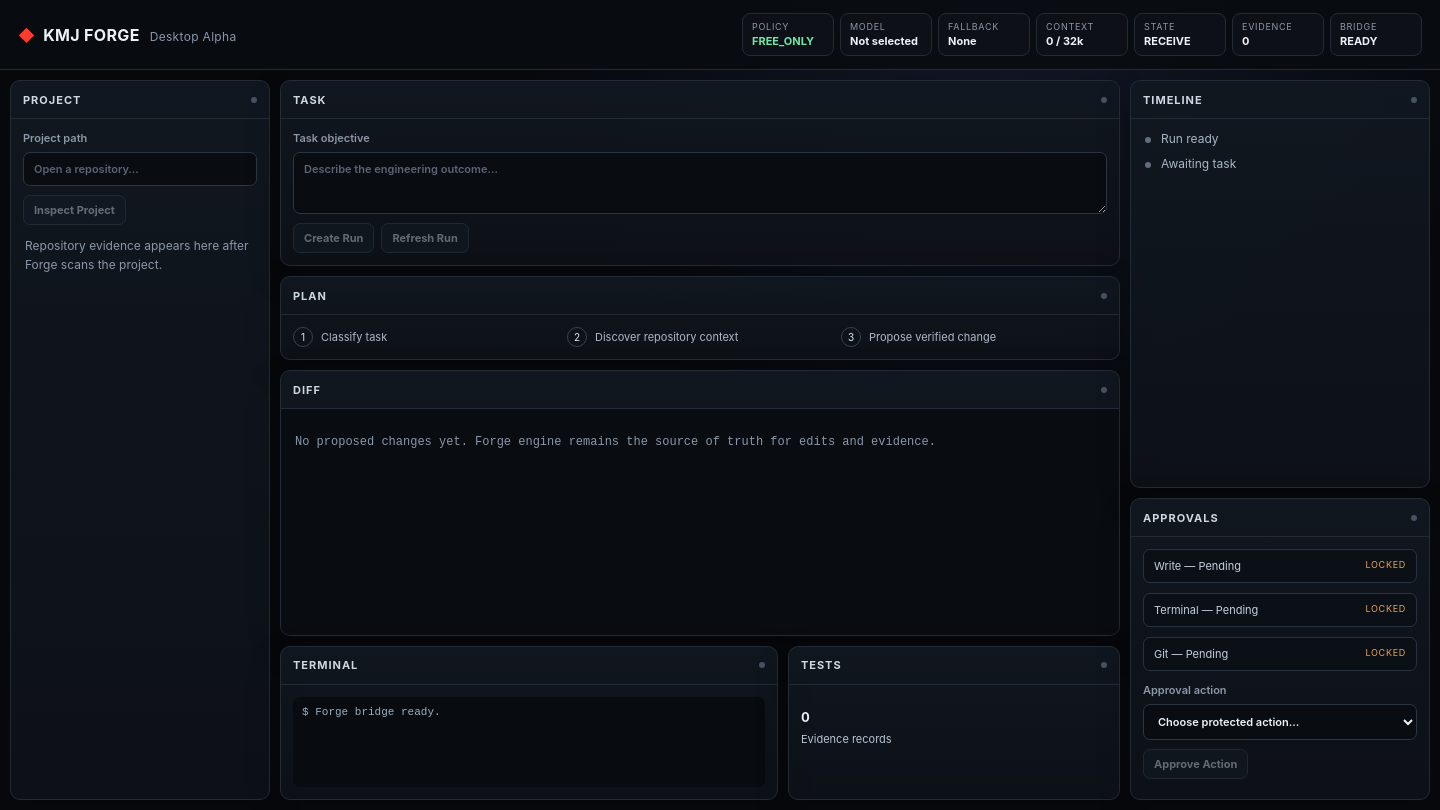
Scenario: Forge Desktop Alpha workspace › creates and refreshes a persisted Forge run through the bridge
Type "/repo" into the field labelled "Project path".
click(140, 169); type("/repo")  # box 23,152 -> 257,186
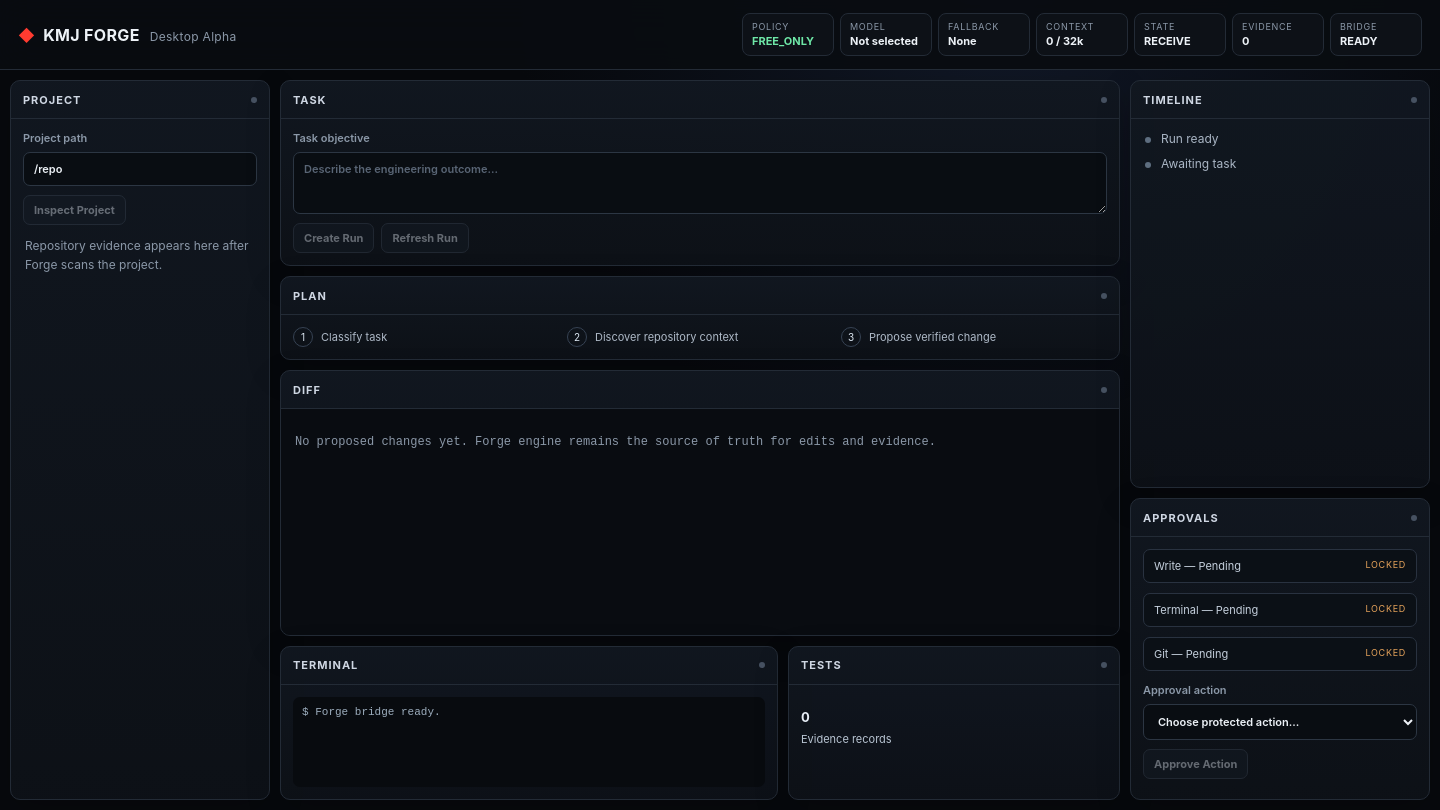
Type "Implement alpha" into the text box labelled "Task objective".
click(700, 183); type("Implement alpha")  # box 293,152 -> 1107,214
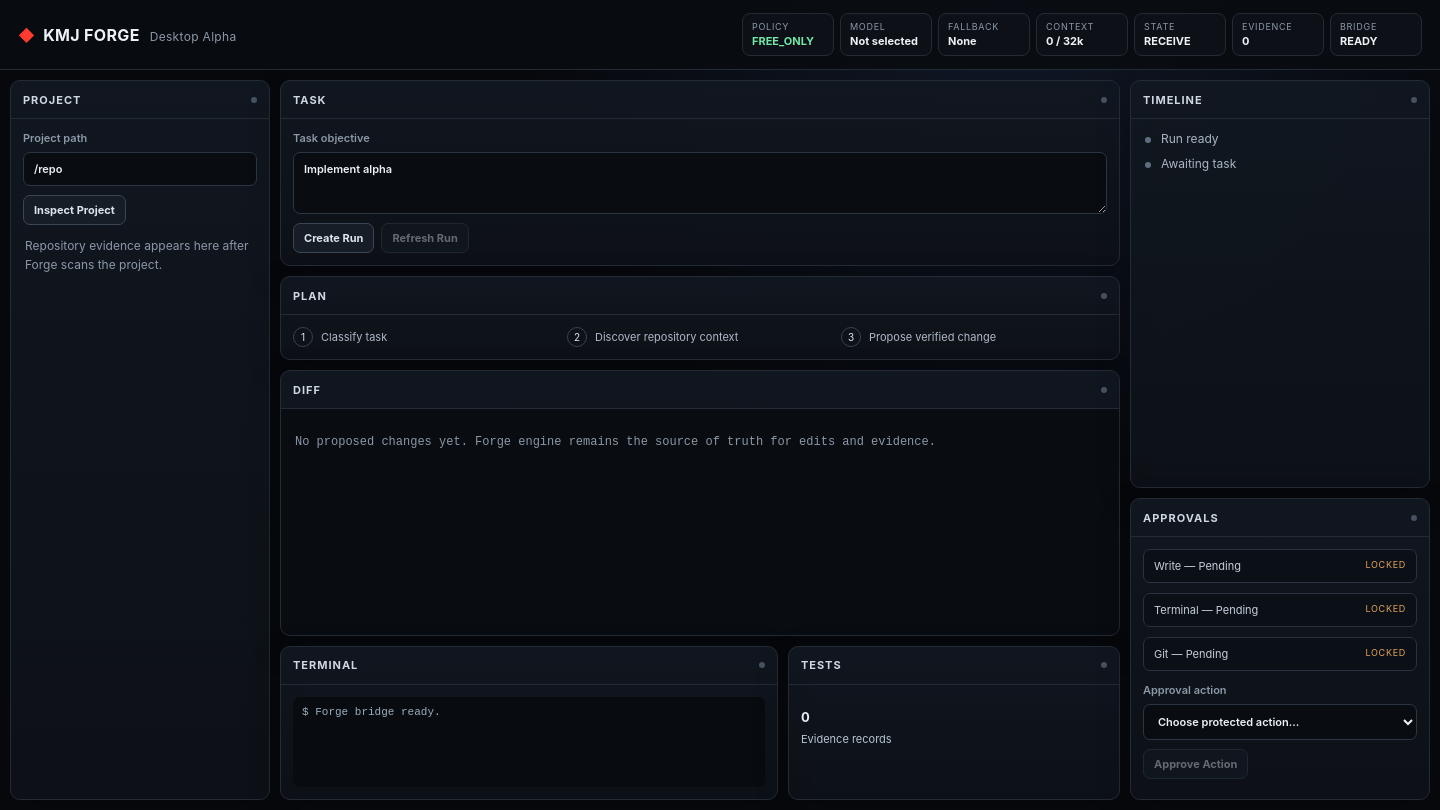
Click the button "Create Run".
click(334, 238)  # box 293,223 -> 374,253
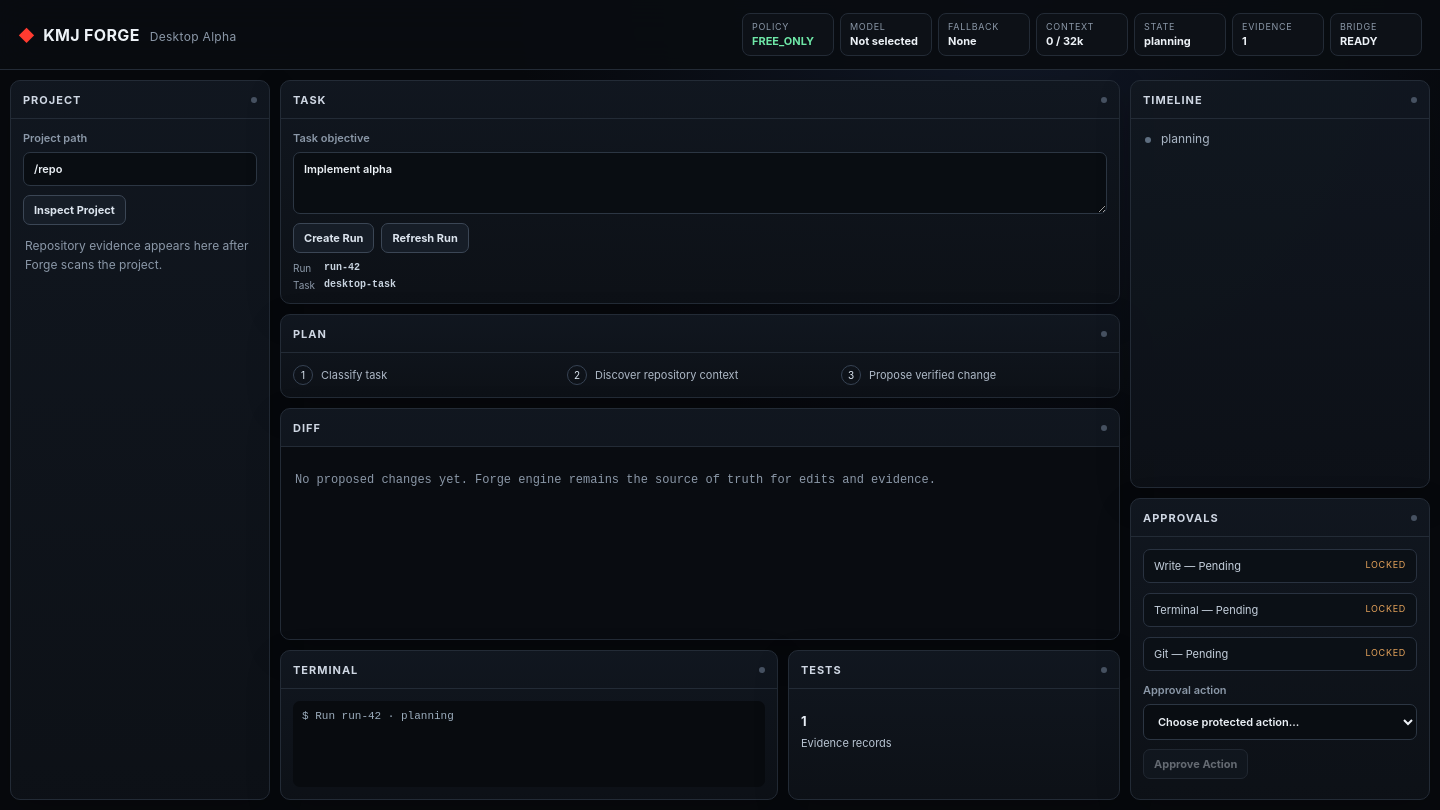
Result: the text "run-42" is shown at 324,262 -> 360,273
Result: the text "planning" is shown at 1144,34 -> 1191,48
Result: the text "1" next to "READY" is shown at 1242,34 -> 1247,48
Click the button "Refresh Run".
click(425, 238)  # box 381,223 -> 469,253
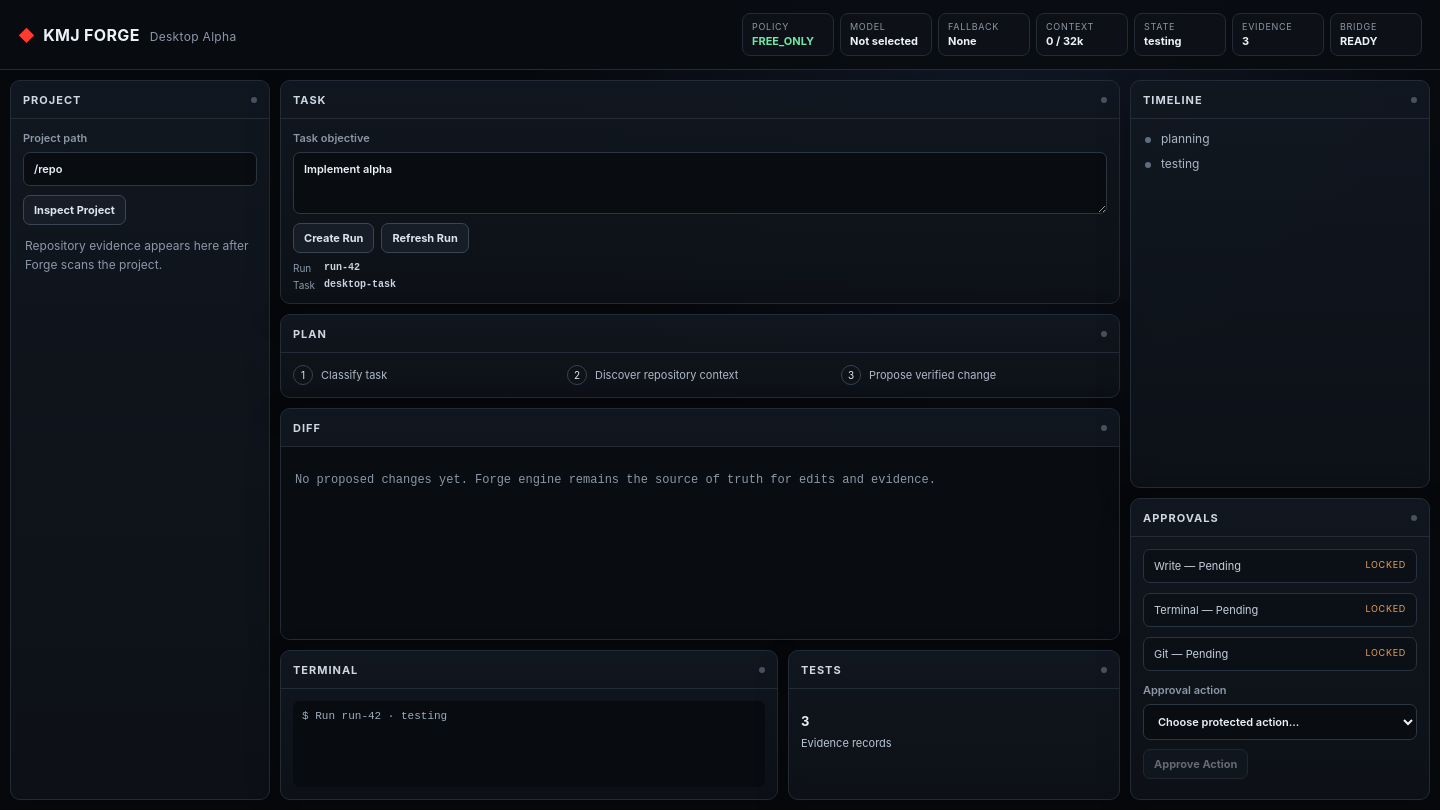
Result: the text "testing" is shown at 1144,34 -> 1182,48
Result: the text "3" next to "READY" is shown at 1242,34 -> 1249,48
